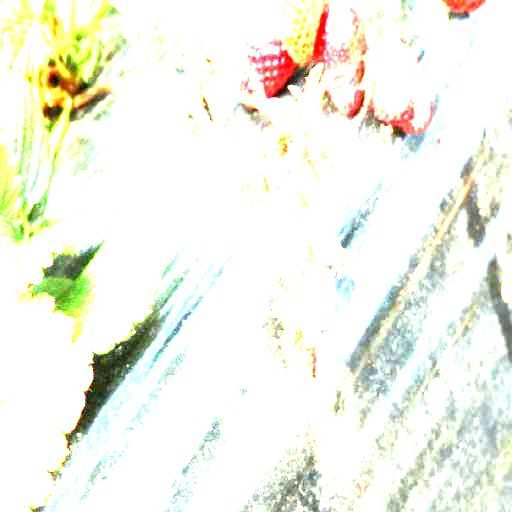Gray Mold: (271, 229, 364, 332), (219, 149, 286, 254)
